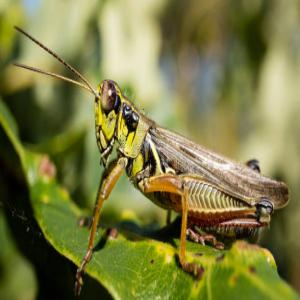locust: (22, 46, 290, 300)
